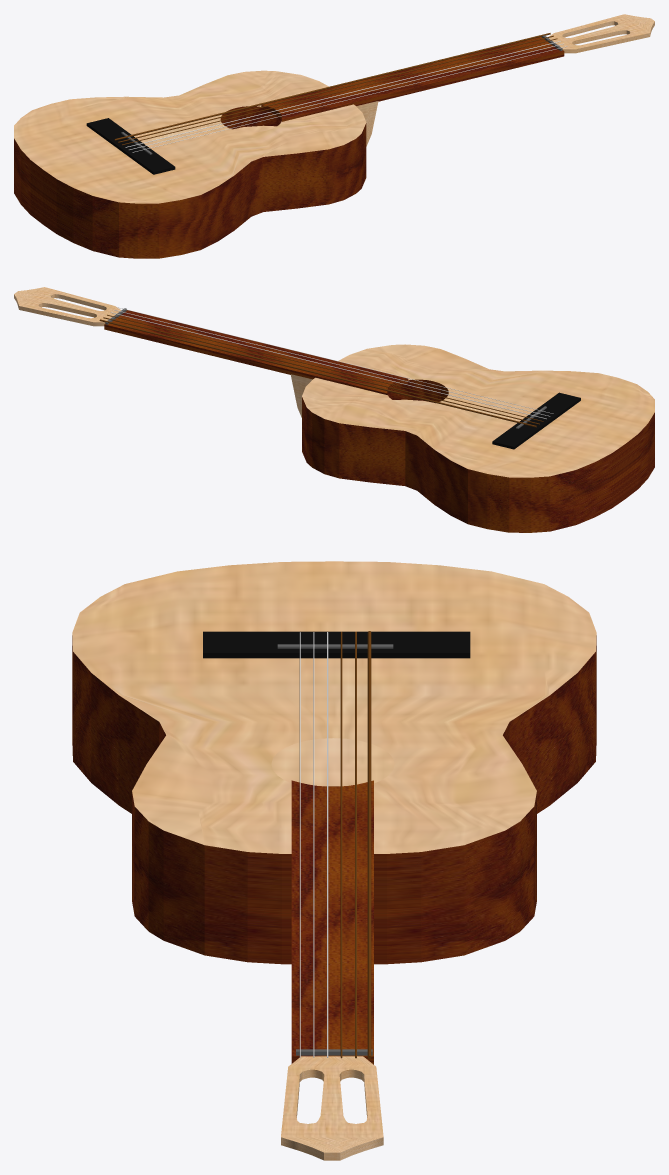
File: gitarfbx.fbx
3 renders of one model, top to bottom at view 1: azimuth 30°, elevation 25°; view 2: azimuth 150°, elevation 25°; view 3: azimuth 270°, elevation 25°, orthographic. The views are drawn at different scales.
Visible parts, largest first — view 1: pCube2, Object001, pCube5, pCube8, pasted__pasted__pCylinder2 (×3), pCube3, pCylinder2, pasted__pasted__pasted__pCylinder2, pasted__pasted__pasted__pasted__pCylinder2, pasted__pCube5; view 2: pCube2, Object001, pCube5, pCube8, pasted__pasted__pCylinder2 (×3), pCube3, pCylinder2, pasted__pasted__pasted__pCylinder2, pasted__pasted__pasted__pasted__pCylinder2, pasted__pCube5; view 3: pCube2, Object001, pCube5, pCube8, pCube3, pasted__pasted__pCylinder2 (×3), pCylinder2, pasted__pasted__pasted__pCylinder2, pasted__pasted__pasted__pasted__pCylinder2.
Boxes of the visible parts, left/top/right/bottom form: pCube2: left=14, top=70, right=366, bottom=203; Object001: left=14, top=106, right=366, bottom=258; pCube5: left=261, top=37, right=564, bottom=121; pCube8: left=549, top=14, right=654, bottom=53; pasted__pasted__pCylinder2 (×3): left=118, top=35, right=560, bottom=147; pCube3: left=86, top=118, right=175, bottom=174; pCylinder2: left=114, top=33, right=550, bottom=140; pasted__pasted__pasted__pCylinder2: left=129, top=43, right=563, bottom=150; pasted__pasted__pasted__pasted__pCylinder2: left=132, top=46, right=567, bottom=152; pasted__pCube5: left=356, top=101, right=378, bottom=146; pCube2: left=302, top=344, right=654, bottom=477; Object001: left=302, top=379, right=654, bottom=532; pCube5: left=104, top=310, right=408, bottom=394; pCube8: left=14, top=287, right=121, bottom=326; pasted__pasted__pCylinder2 (×3): left=103, top=312, right=546, bottom=424; pCube3: left=492, top=392, right=580, bottom=449; pCylinder2: left=99, top=319, right=536, bottom=427; pasted__pasted__pasted__pCylinder2: left=114, top=310, right=550, bottom=416; pasted__pasted__pasted__pasted__pCylinder2: left=117, top=307, right=553, bottom=413; pasted__pCube5: left=290, top=374, right=312, bottom=417; pCube2: left=72, top=561, right=596, bottom=853; Object001: left=72, top=635, right=596, bottom=964; pCube5: left=291, top=780, right=373, bottom=1064; pCube8: left=281, top=1056, right=383, bottom=1160; pCube3: left=203, top=631, right=470, bottom=658; pasted__pasted__pCylinder2 (×3): left=327, top=631, right=356, bottom=1058; pCylinder2: left=367, top=631, right=371, bottom=1058; pasted__pasted__pasted__pCylinder2: left=313, top=632, right=314, bottom=1057; pasted__pasted__pasted__pasted__pCylinder2: left=299, top=632, right=300, bottom=1057.
Bounding box in the file's own units: 48.89 × 4.82 × 18.22.
6 materials, 2 textured.
